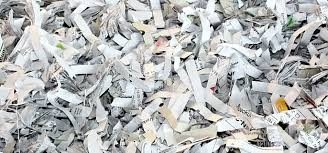paper: (1, 59, 76, 134), (70, 48, 157, 103), (70, 97, 145, 153), (265, 2, 327, 64), (214, 21, 279, 79), (180, 56, 216, 119), (175, 6, 221, 52), (68, 4, 109, 54), (247, 77, 312, 102), (260, 105, 322, 128), (141, 1, 171, 42), (283, 81, 318, 115), (294, 130, 328, 150)
